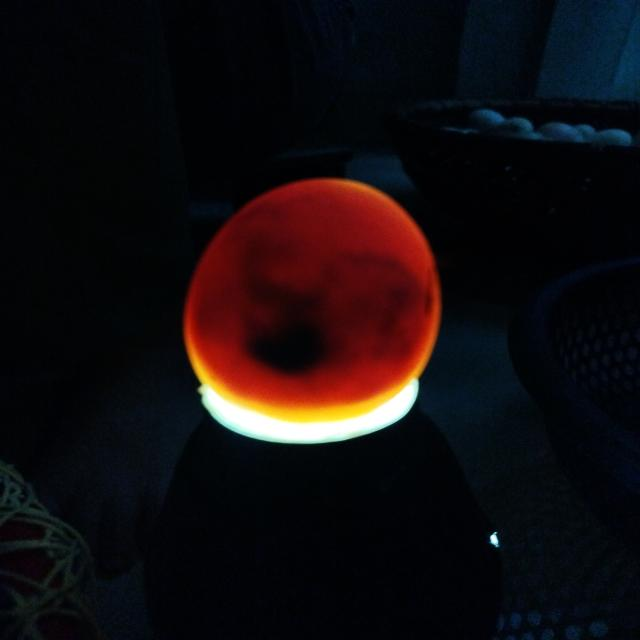Area Infectada: (192, 191, 435, 377)
